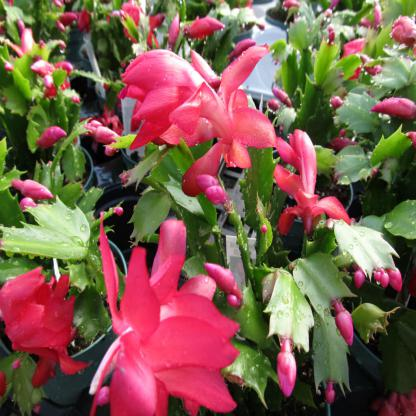Aglonema: (14, 1, 416, 392)
